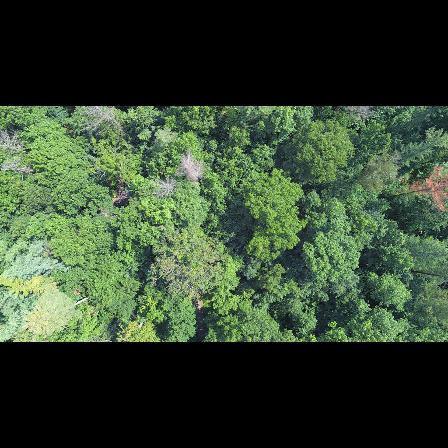Dead: (76, 106, 127, 136), (174, 150, 208, 182), (0, 128, 32, 156), (0, 157, 39, 177), (152, 171, 176, 198)
